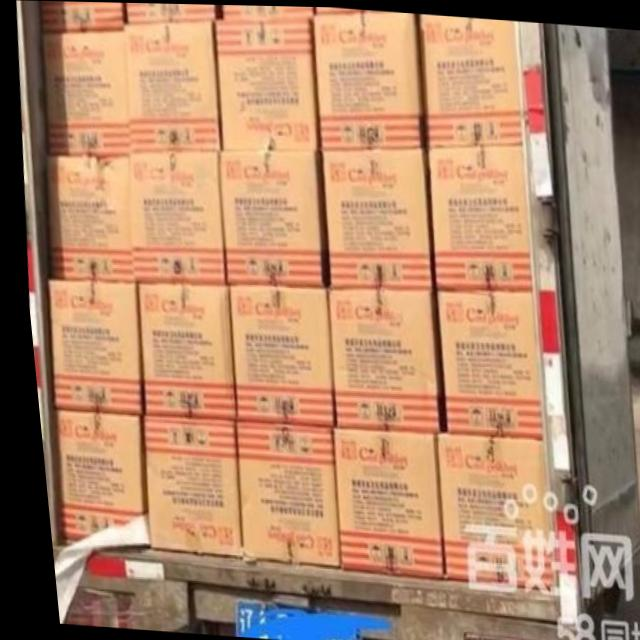box: (429, 432, 543, 587), (318, 145, 432, 292), (325, 425, 433, 577), (322, 287, 436, 430), (432, 288, 536, 437), (423, 143, 527, 288), (227, 419, 328, 565), (315, 12, 421, 148), (224, 286, 326, 427), (214, 12, 317, 151), (217, 151, 322, 286), (136, 414, 232, 558), (419, 12, 521, 147), (132, 281, 227, 419), (42, 278, 136, 414), (127, 151, 222, 284), (123, 18, 217, 151), (48, 409, 139, 540), (40, 24, 126, 156), (43, 151, 128, 282), (39, 1, 123, 33), (127, 2, 217, 22), (222, 4, 315, 17)
